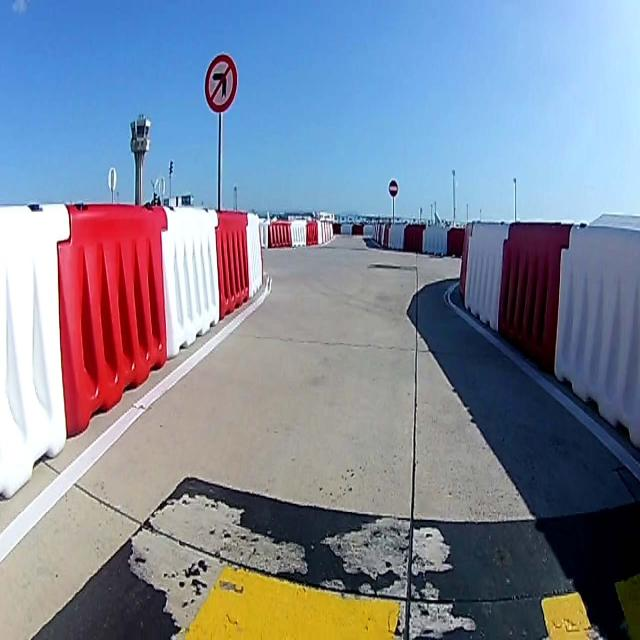soladonulmez: (205, 54, 237, 111)
